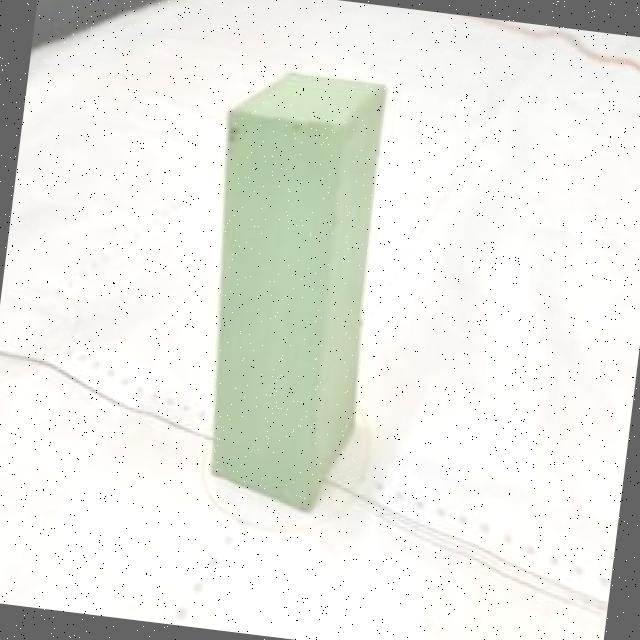greenbox: (182, 68, 402, 506)
